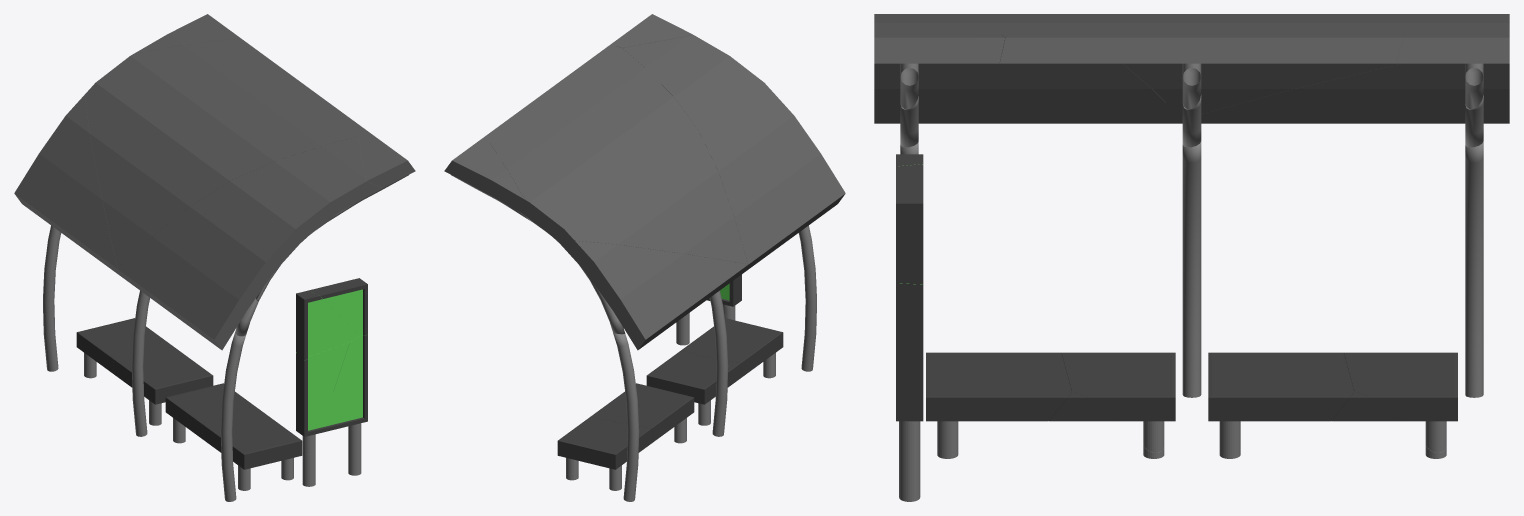
File: paradero.fbx
3 renders of one model, left to right at view 1: azimuth 30°, elevation 25°; view 2: azimuth 150°, elevation 25°; view 3: azimuth 270°, elevation 25°, orthographic. The views are drawn at different scales.
Parts seen in each view (by area): view 1: Cube_cell.003, Cube_cell.002, Cube_cell.001, Cube.003_cell.006, Cube.003_cell.002, Cube.001_cell, Cube.001_cell.001, Cube.001_cell.002, Cube.003_cell.003, Cube.003_cell.007, BezierCurve.002_cell.011, Cube_cell.005 (+6 smaller); view 2: Cube_cell.003, Cube_cell.002, Cube_cell.001, Cube.003_cell.003, Cube.003_cell.007, Cube.003_cell.002, Cube.003_cell.006, Cube_cell.004, BezierCurve.002_cell.001, BezierCurve.002_cell.011, BezierCurve.002_cell.004, Cube_cell.005 (+1 smaller); view 3: Cube_cell.003, Cube_cell.002, Cube_cell.001, Cube.003_cell.002, Cube.003_cell.006, Cube.003_cell.007, Cube.003_cell.003, BezierCurve.002_cell.004, BezierCurve.002_cell.001, Cube_cell.005, Cube_cell.004, Cube.001_cell.001 (+9 smaller).
Boxes of the visible parts, left/top/right/bottom form: Cube_cell.003: left=85, top=38, right=366, bottom=267; Cube_cell.002: left=117, top=136, right=381, bottom=350; Cube_cell.001: left=14, top=94, right=123, bottom=278; Cube.003_cell.006: left=201, top=408, right=302, bottom=468; Cube.003_cell.002: left=113, top=342, right=213, bottom=403; Cube.001_cell: left=296, top=342, right=349, bottom=436; Cube.001_cell.001: left=320, top=334, right=367, bottom=432; Cube.001_cell.002: left=296, top=290, right=359, bottom=360; Cube.003_cell.003: left=76, top=318, right=161, bottom=374; Cube.003_cell.007: left=165, top=383, right=250, bottom=439; BezierCurve.002_cell.011: left=220, top=332, right=246, bottom=501; Cube_cell.005: left=358, top=130, right=415, bottom=187; Cube_cell.003: left=485, top=44, right=747, bottom=264; Cube_cell.002: left=622, top=35, right=845, bottom=274; Cube_cell.001: left=563, top=241, right=747, bottom=350; Cube.003_cell.003: left=557, top=418, right=653, bottom=469; Cube.003_cell.007: left=646, top=353, right=742, bottom=404; Cube.003_cell.002: left=592, top=383, right=694, bottom=441; Cube.003_cell.006: left=681, top=318, right=783, bottom=376; Cube_cell.004: left=444, top=136, right=525, bottom=213; BezierCurve.002_cell.001: left=613, top=332, right=639, bottom=501; BezierCurve.002_cell.011: left=798, top=225, right=816, bottom=371; BezierCurve.002_cell.004: left=710, top=290, right=728, bottom=436; Cube_cell.005: left=611, top=14, right=692, bottom=47; Cube_cell.003: left=999, top=14, right=1509, bottom=118; Cube_cell.002: left=874, top=14, right=1182, bottom=123; Cube_cell.001: left=1201, top=63, right=1509, bottom=123; Cube.003_cell.002: left=1208, top=352, right=1354, bottom=421; Cube.003_cell.006: left=926, top=352, right=1071, bottom=421; Cube.003_cell.007: left=1061, top=352, right=1175, bottom=421; Cube.003_cell.003: left=1344, top=352, right=1457, bottom=421; BezierCurve.002_cell.004: left=1182, top=141, right=1201, bottom=397; BezierCurve.002_cell.001: left=1465, top=141, right=1483, bottom=397; Cube_cell.005: left=874, top=22, right=1005, bottom=63; Cube_cell.004: left=1396, top=15, right=1509, bottom=63; Cube.001_cell.001: left=896, top=283, right=923, bottom=421.
Size of the model in its own units: 531 by 770 by 900.
